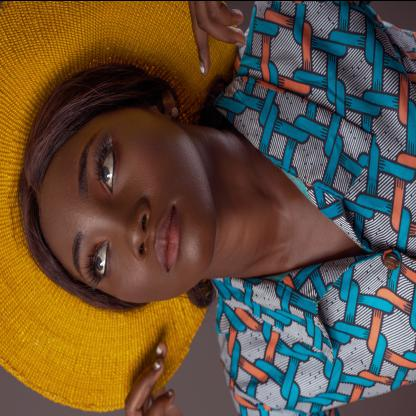Eye: (97, 133, 122, 198), (90, 238, 113, 287)
Mouth: (153, 200, 182, 275)
Nose: (103, 197, 152, 260)
